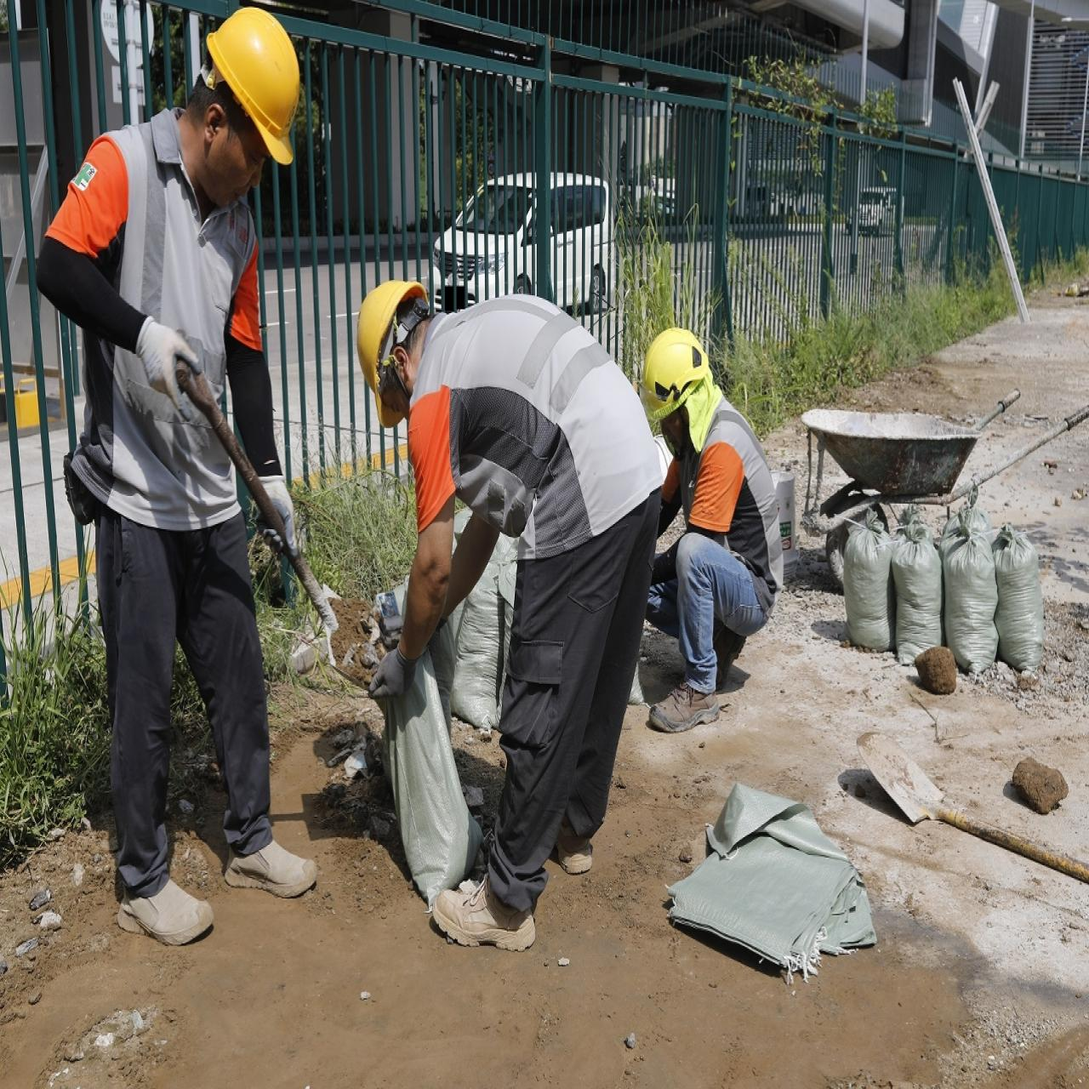Person: (26, 0, 352, 976), (338, 264, 665, 967), (613, 312, 788, 741)
